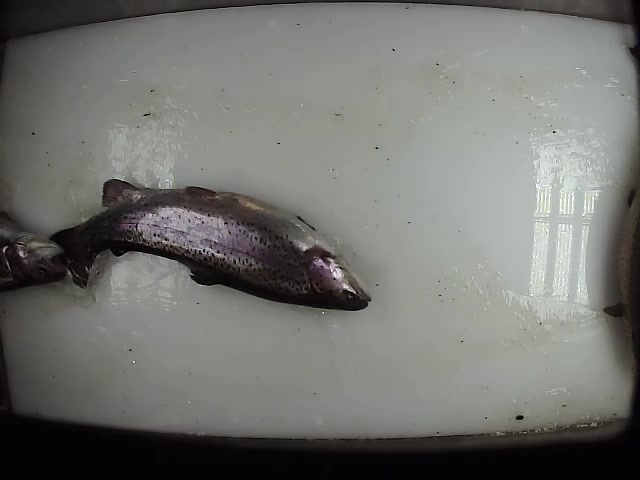fish: (45, 174, 375, 314)
